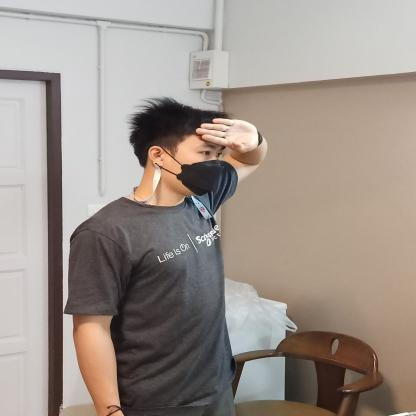Sick: (186, 110, 279, 192)
